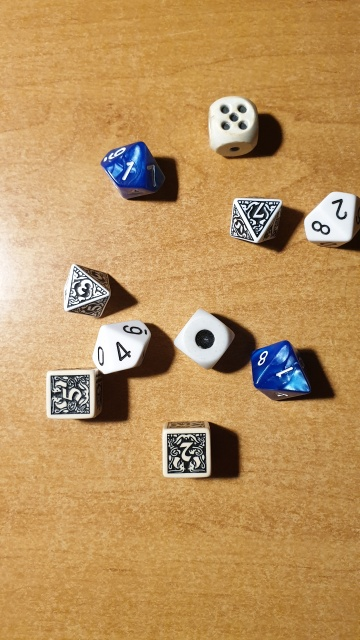d10-1: (269, 347, 310, 397), (111, 146, 147, 189)
d10-2: (325, 188, 356, 237)
d10-4: (103, 328, 141, 373)
d6-1: (182, 311, 234, 364)
d6-5: (209, 95, 262, 138)
d6p-2: (167, 429, 211, 478)
d6p-5: (45, 370, 96, 420)
d8p-3: (70, 266, 110, 309)
d8p-7: (237, 194, 281, 244)
